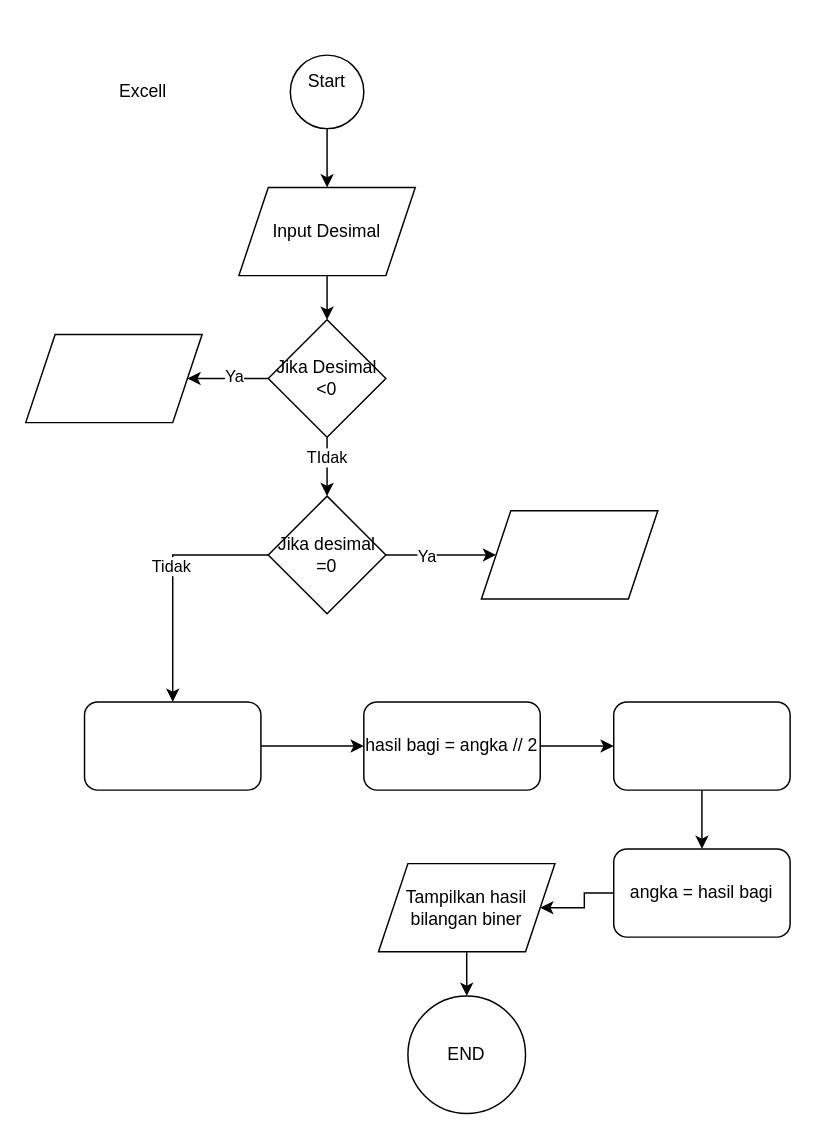
This 816x1139 diagram has some shape labels left out. Here are the shapes that lost their labels. From the top down, the centre of each, then its label:
the point at 113,378: Tampilkan Bilangan Harus >=0
the point at 569,554: Tampilkan bilangan 0 dalam biner 0
the point at 172,745: angka desimal >0
the point at 701,745: sisa angka % 2
